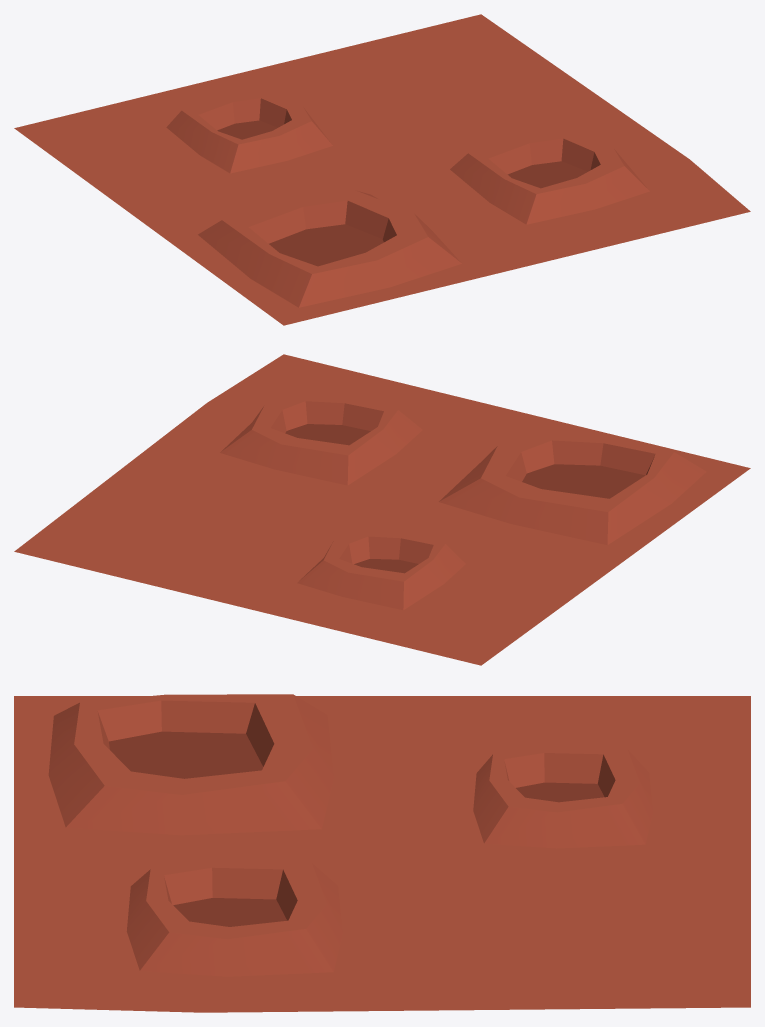
Rendered from SM_Env_Crater_05.fbx.
3 views of the same model, one above another, from view 1: azimuth 30°, elevation 25°; view 2: azimuth 150°, elevation 25°; view 3: azimuth 270°, elevation 25° (orthographic). The views are drawn at different scales.
Visible parts, largest first — view 1: SM_Env_Crater_05; view 2: SM_Env_Crater_05; view 3: SM_Env_Crater_05.
Boxes of the visible parts, x1,y1,x2,y2 form: SM_Env_Crater_05: (14,14,750,325); SM_Env_Crater_05: (14,354,750,665); SM_Env_Crater_05: (14,694,750,1012).
Size of the model in its own units: 20.33 by 0.8606 by 20.
